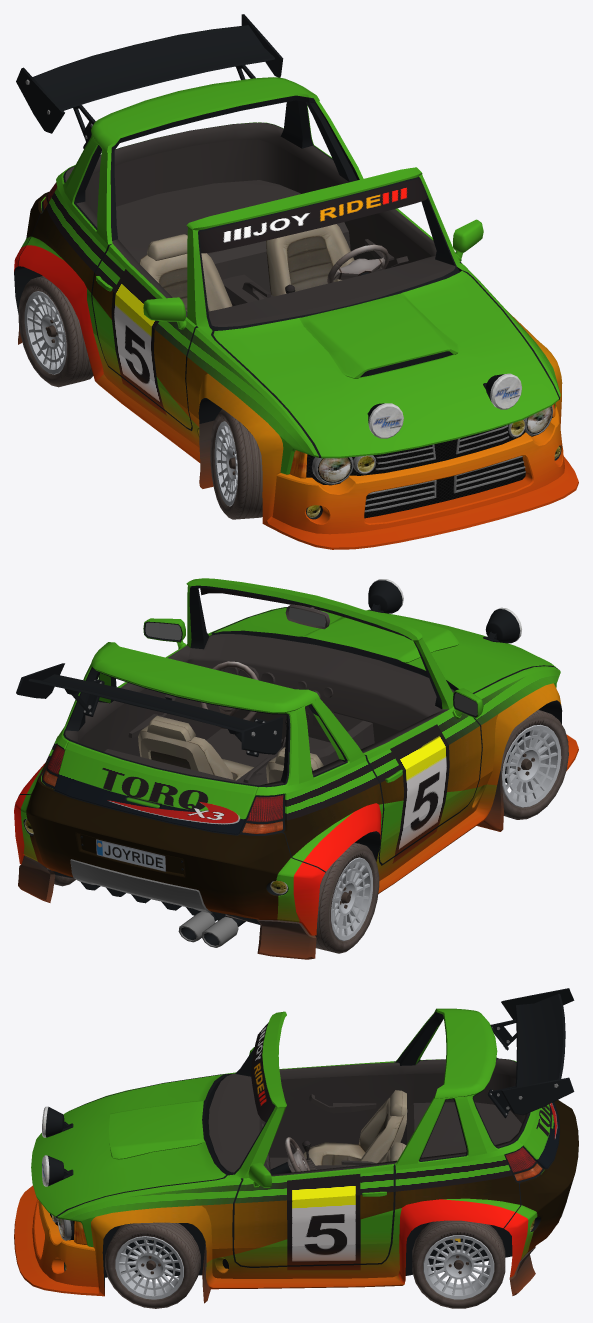
Rendered from tunercar2.glb.
The picture shows the model from 3 angles, top to bottom: view 1: azimuth 30°, elevation 25°; view 2: azimuth 150°, elevation 25°; view 3: azimuth 270°, elevation 25°; orthographic projection. The views are drawn at different scales.
Parts seen in each view (by area): view 1: node_id763, node_id755, node_id671, node_id753, node_id767, node_id680, node_id757, node_id730, node_id727, node_id676, node_id734, node_id723 (+9 smaller); view 2: node_id763, node_id755, node_id753, node_id671, node_id723, node_id680, node_id757, node_id730, node_id734, node_id725, node_id705, node_id732 (+8 smaller); view 3: node_id763, node_id755, node_id671, node_id753, node_id737, node_id744, node_id676, node_id748, node_id741, node_id739, node_id746, node_id683 (+5 smaller).
Boxes of the visible parts, left/top/right/bottom form: node_id763: left=14, top=77, right=578, bottom=549; node_id755: left=65, top=122, right=455, bottom=326; node_id671: left=16, top=14, right=283, bottom=148; node_id753: left=14, top=95, right=561, bottom=519; node_id767: left=306, top=417, right=552, bottom=518; node_id680: left=266, top=224, right=354, bottom=296; node_id757: left=311, top=406, right=552, bottom=512; node_id730: left=24, top=291, right=66, bottom=374; node_id727: left=218, top=409, right=262, bottom=519; node_id676: left=139, top=253, right=232, bottom=311; node_id734: left=21, top=276, right=93, bottom=387; node_id723: left=214, top=421, right=237, bottom=506; node_id763: left=14, top=578, right=578, bottom=959; node_id755: left=65, top=634, right=454, bottom=785; node_id753: left=19, top=585, right=562, bottom=924; node_id671: left=16, top=663, right=283, bottom=756; node_id723: left=502, top=724, right=561, bottom=807; node_id680: left=138, top=715, right=253, bottom=780; node_id757: left=70, top=859, right=212, bottom=913; node_id730: left=331, top=857, right=372, bottom=941; node_id734: left=315, top=842, right=376, bottom=953; node_id725: left=500, top=718, right=568, bottom=815; node_id705: left=178, top=911, right=238, bottom=947; node_id732: left=329, top=850, right=379, bottom=949; node_id763: left=14, top=1008, right=578, bottom=1303; node_id755: left=208, top=1058, right=528, bottom=1176; node_id671: left=487, top=988, right=574, bottom=1118; node_id753: left=56, top=1012, right=559, bottom=1293; node_id737: left=423, top=1235, right=494, bottom=1299; node_id744: left=115, top=1236, right=183, bottom=1299; node_id676: left=303, top=1097, right=407, bottom=1165; node_id748: left=105, top=1222, right=200, bottom=1308; node_id741: left=412, top=1220, right=505, bottom=1308; node_id739: left=417, top=1230, right=500, bottom=1306; node_id746: left=108, top=1231, right=189, bottom=1306; node_id683: left=285, top=1137, right=310, bottom=1172.
Bounding box in the file's own units: 0.512 × 0.3761 × 0.8963.
54 materials, 54 textured.
